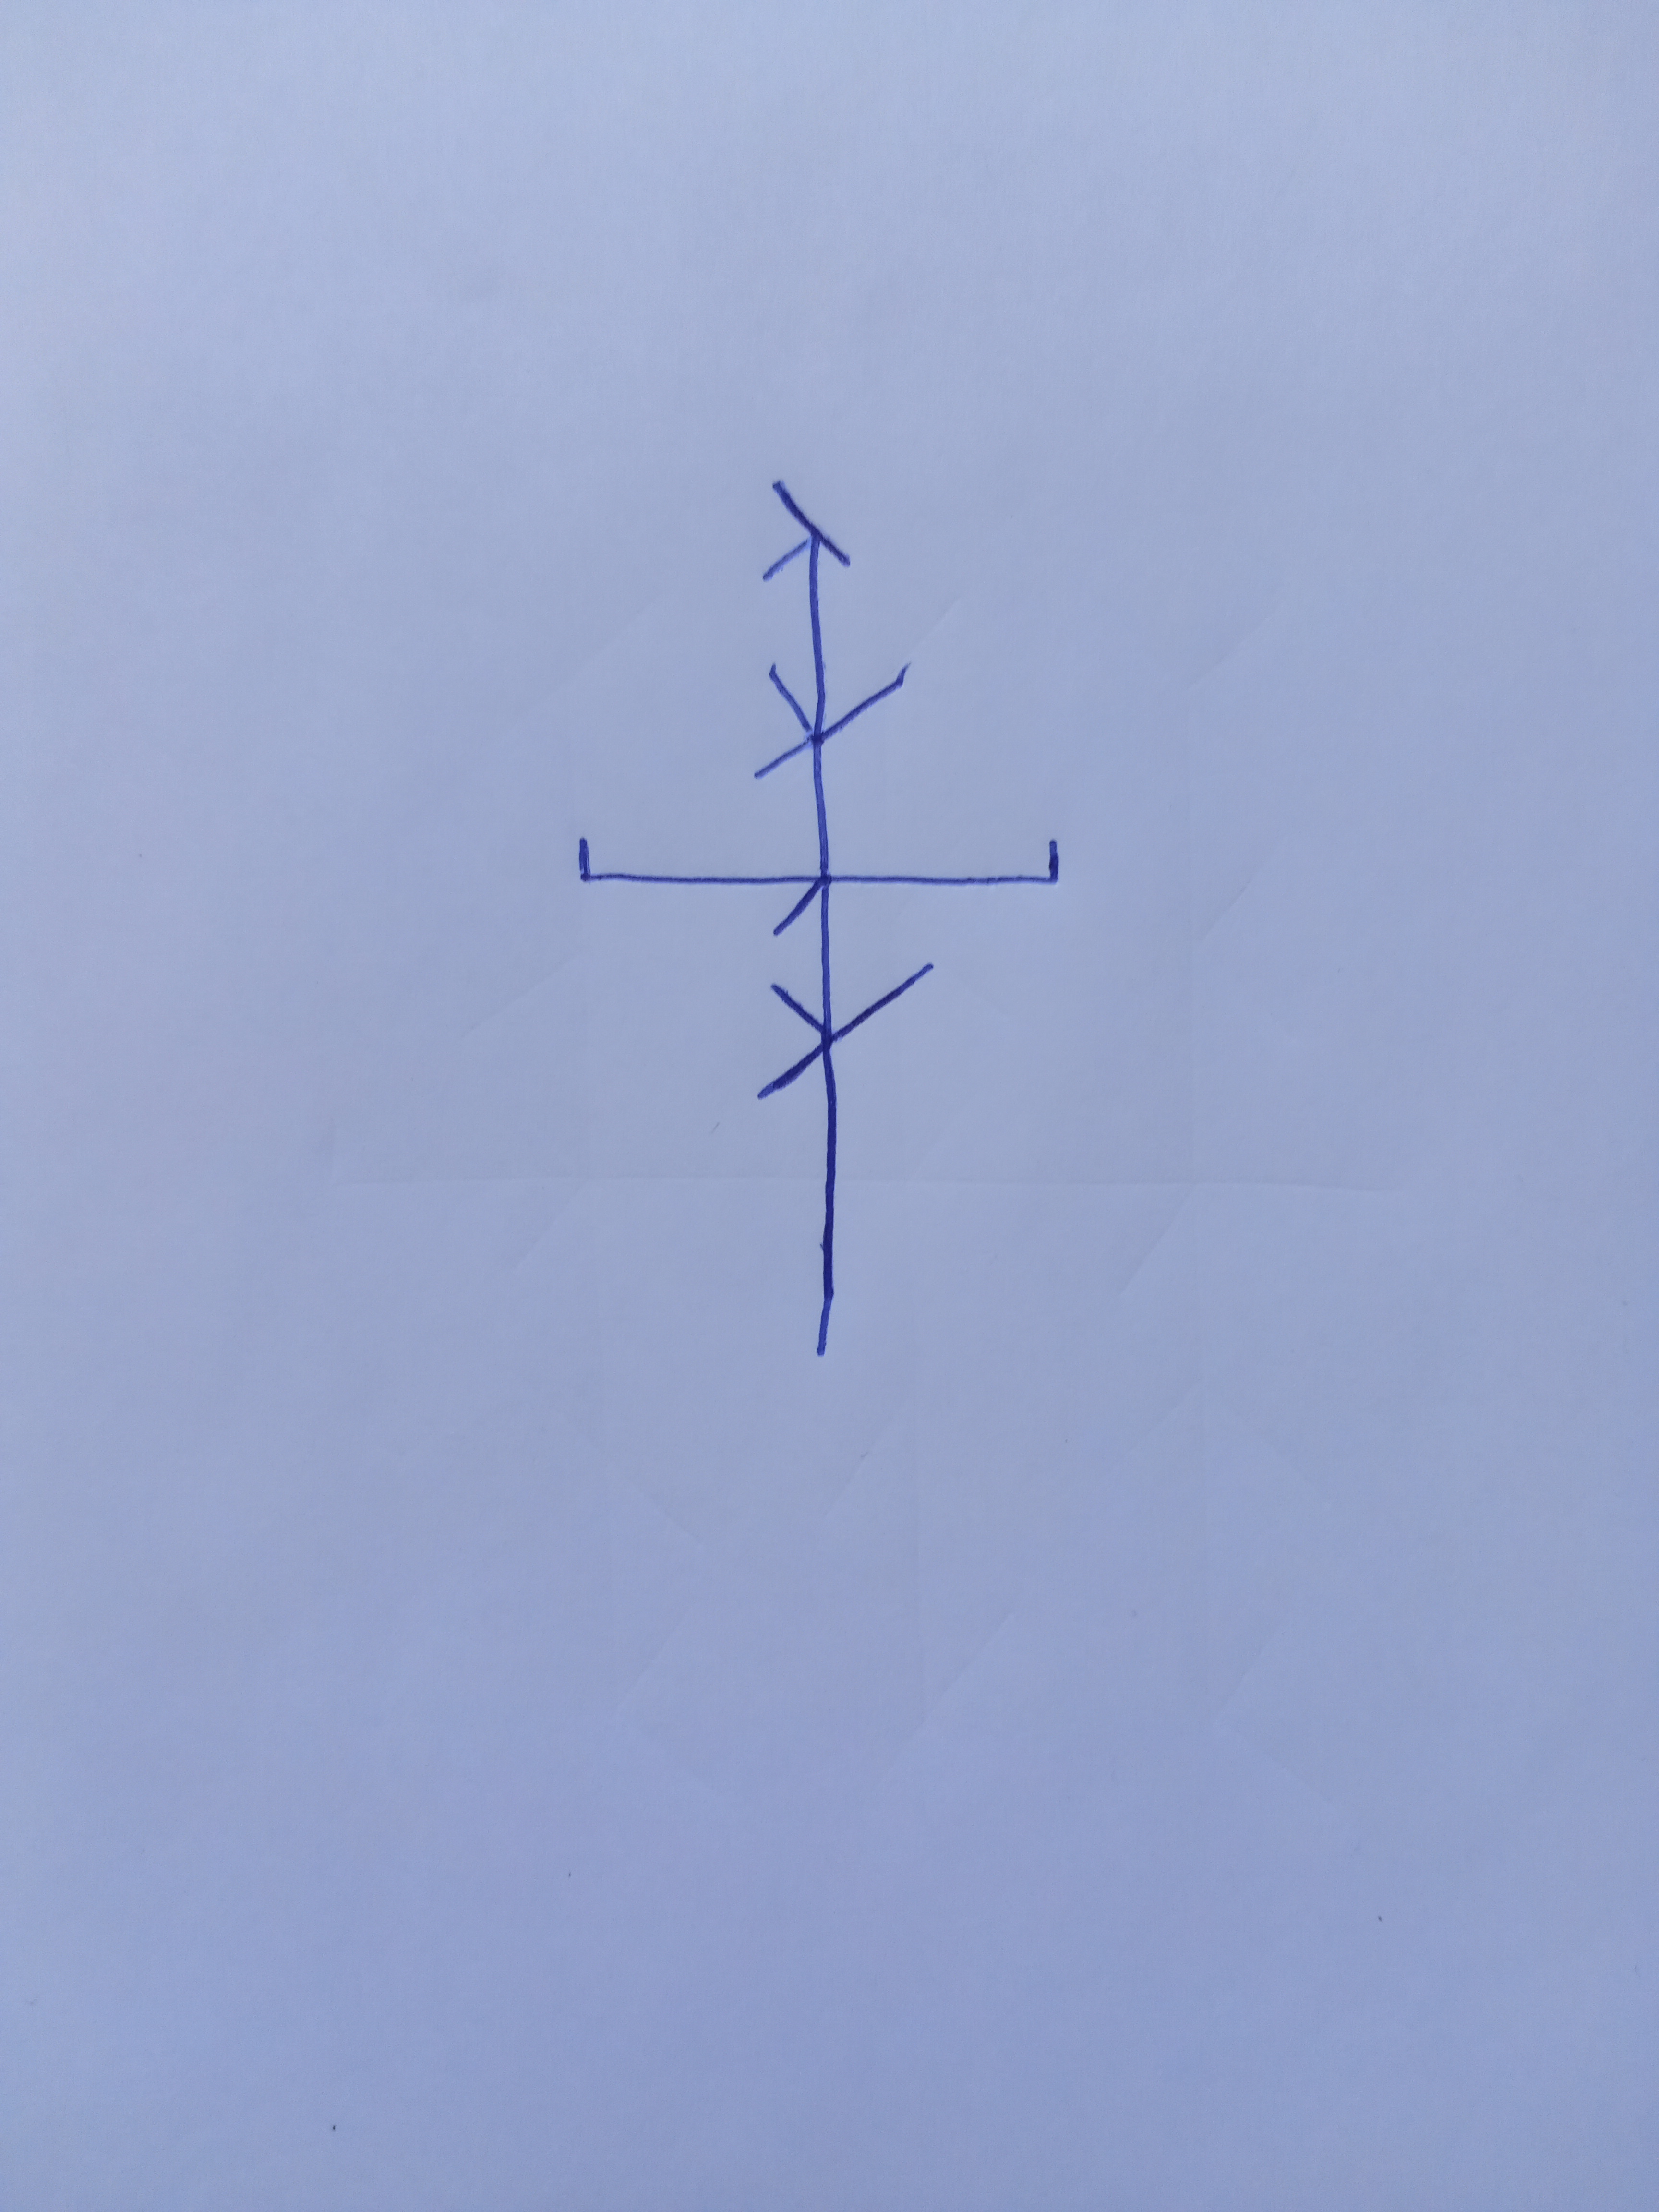Bar: (756, 481, 936, 1355)
Barcode: (579, 481, 1063, 1357)
End: (829, 836, 1061, 887)
Start: (579, 836, 817, 887)
